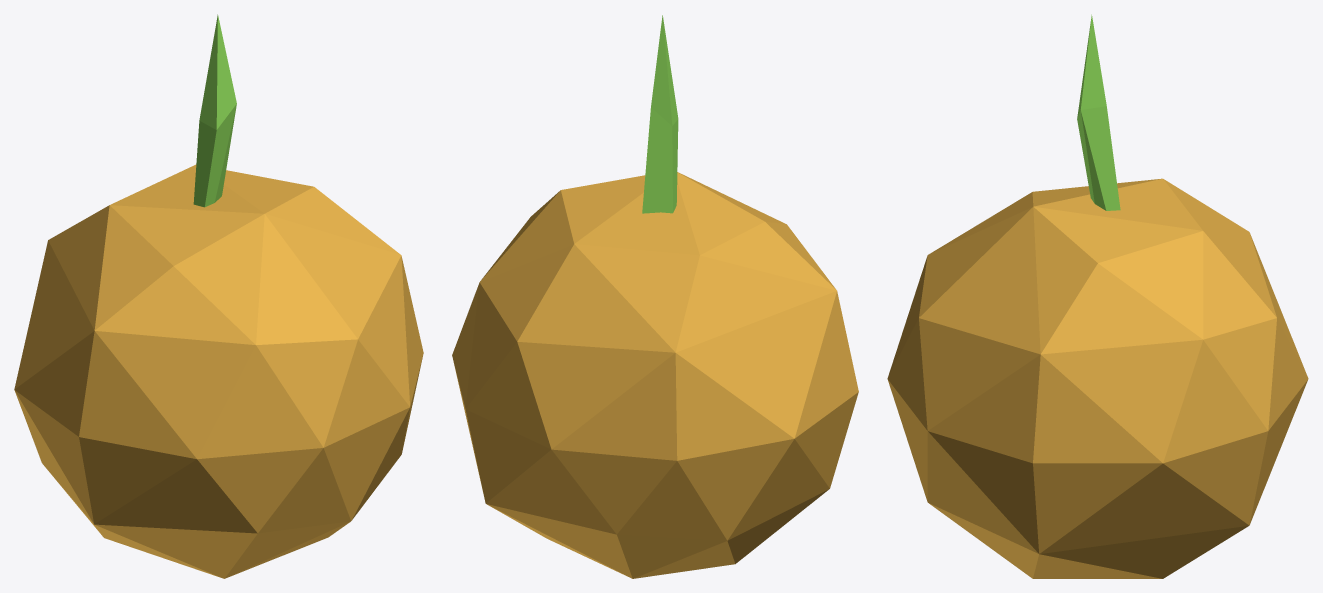
The model's file is orenge.fbx.
3 views of the same model, side by side, from view 1: azimuth 30°, elevation 25°; view 2: azimuth 150°, elevation 25°; view 3: azimuth 270°, elevation 25° (orthographic).
Visible parts, largest first — view 1: orenge; view 2: orenge; view 3: orenge.
Part boxes in pixels (<box>): orenge: <box>14,14,423,578</box>; orenge: <box>452,15,858,578</box>; orenge: <box>887,14,1308,578</box>.
Bounding box in the file's own units: 69.25 × 105 × 72.82.
